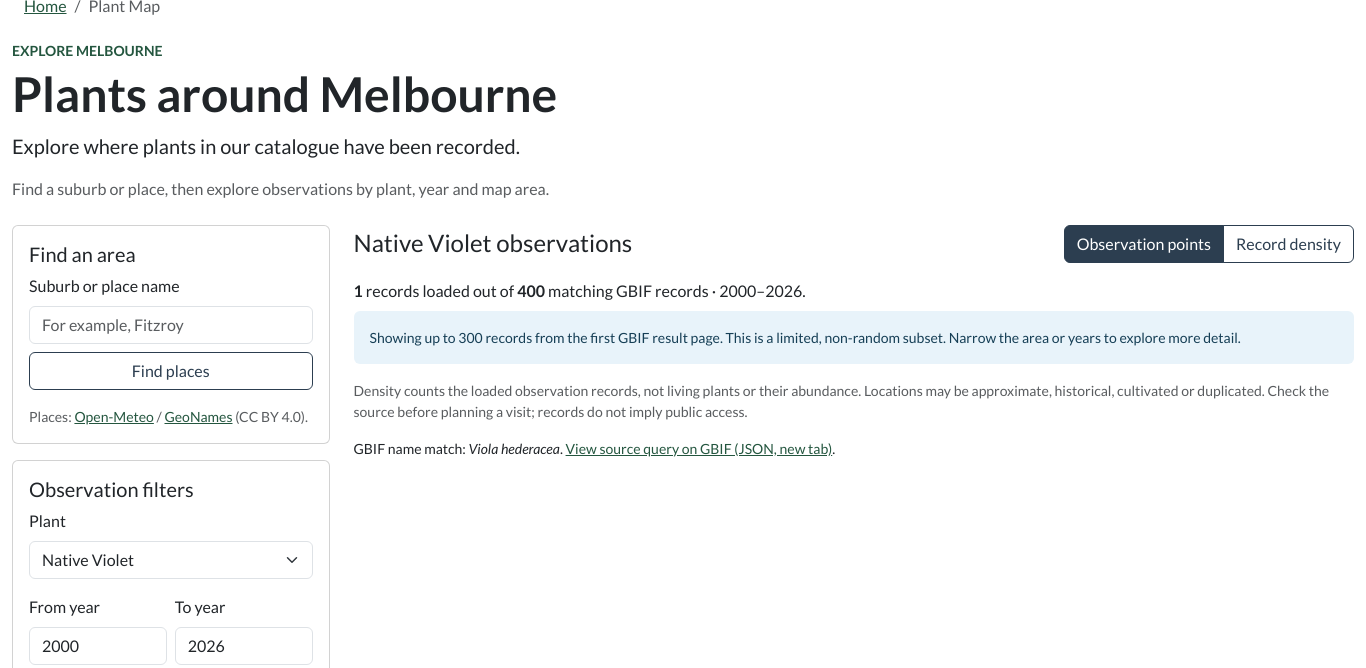
Scenario: plant map workflows › rejects reversed years without requesting data
Replace the text in the number field with id "map-from" with "2025". click: (98, 646)
box: [29, 627, 167, 665]
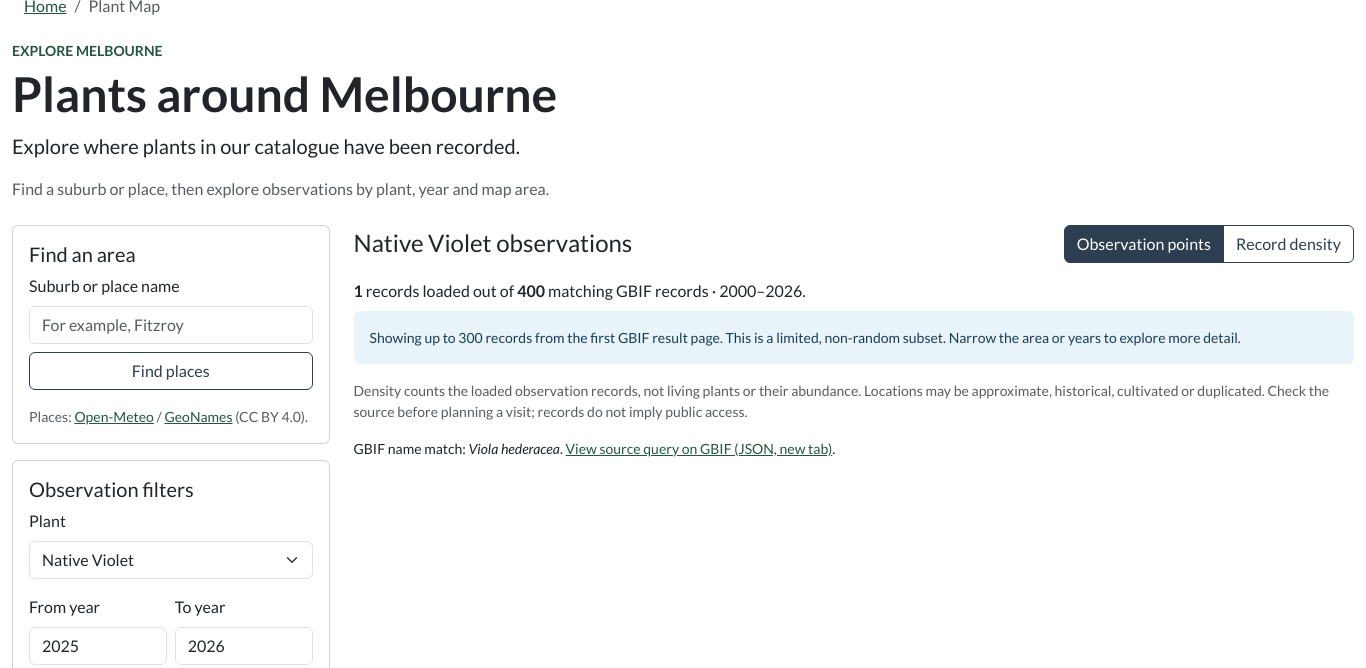
Replace the text in the number field with id "map-to" with "2020". click: (244, 646)
box: [175, 627, 313, 665]
(page scrolled)
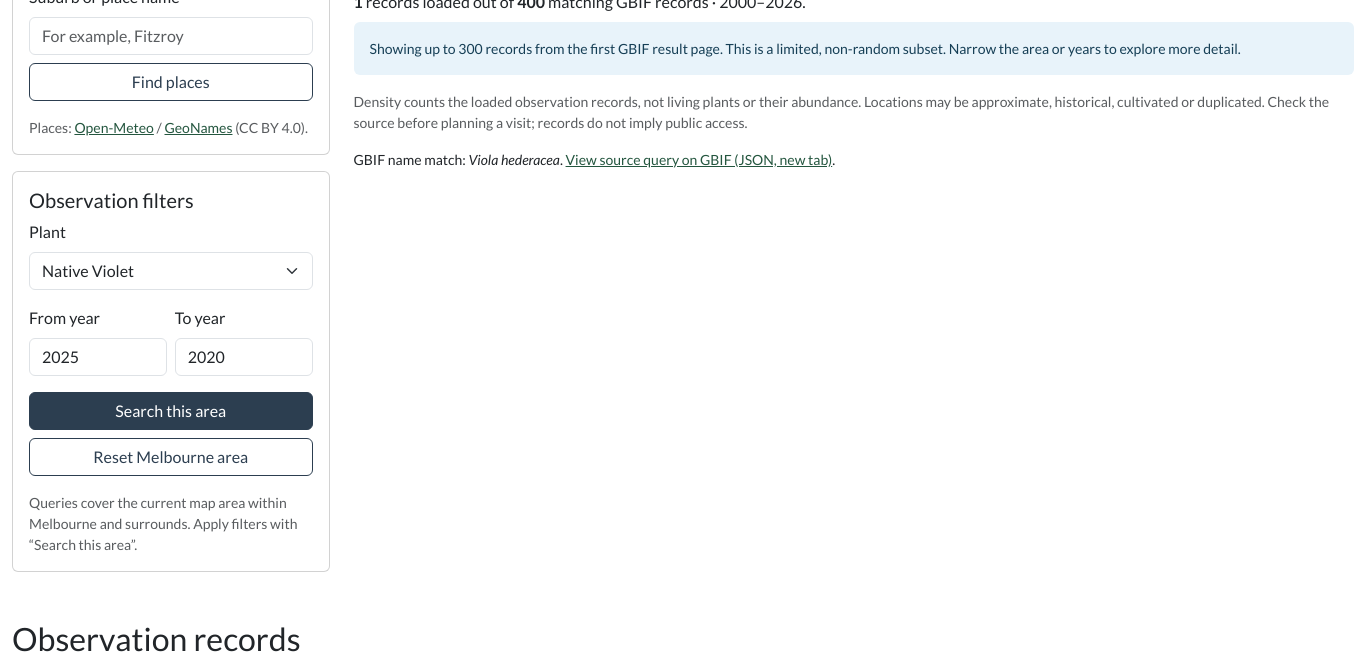
Submit the form "Plant From year To year Search this area", box [29, 220, 312, 430]
(page scrolled)
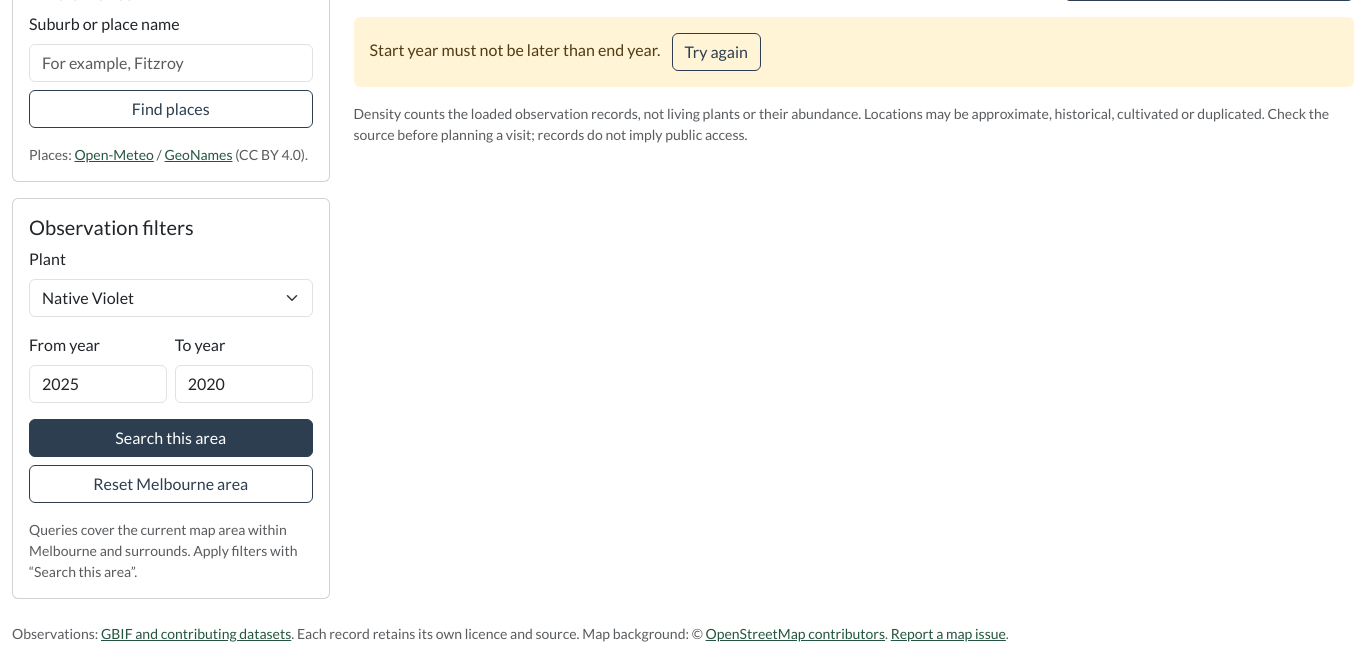
Expected: the message "Start year must not be later than end year. Try again" is shown, [354, 17, 1354, 87]
